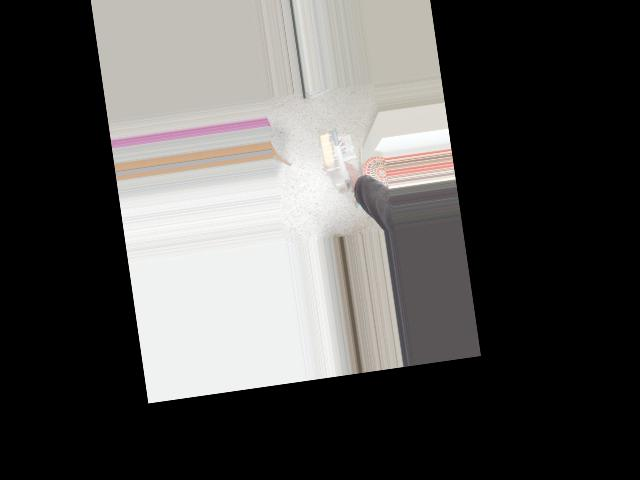cheese: (301, 123, 383, 184)
